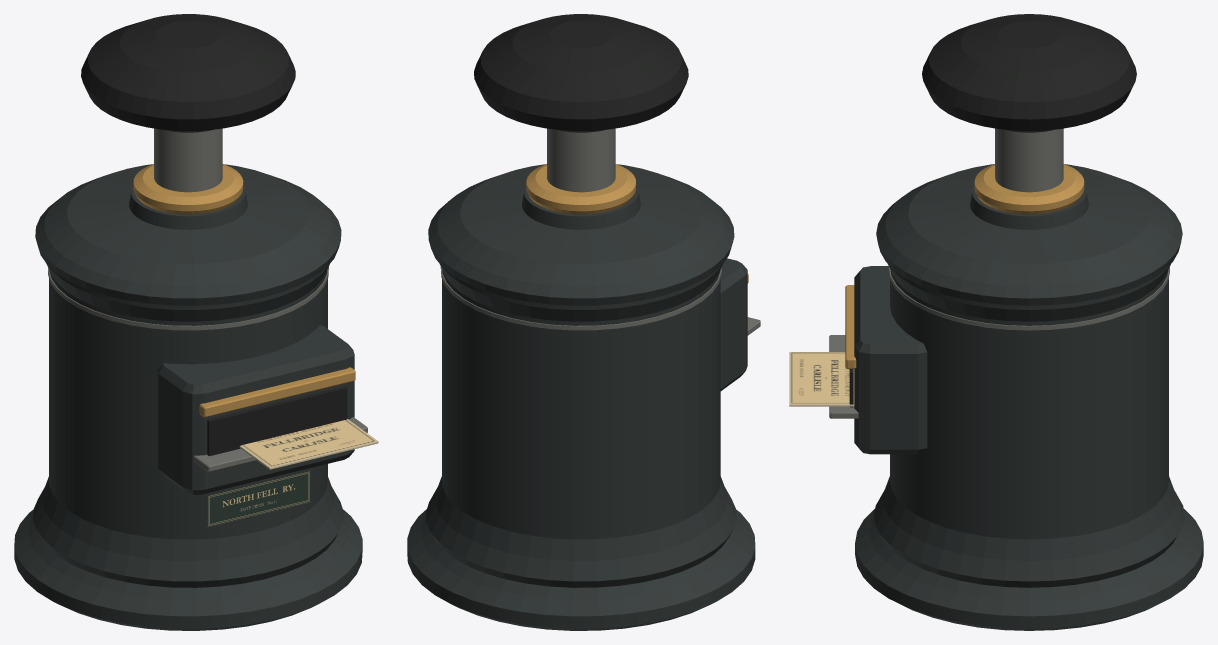
The model's file is TicketDatingPress.fbx.
3 renders of one model, left to right at view 1: azimuth 30°, elevation 25°; view 2: azimuth 150°, elevation 25°; view 3: azimuth 270°, elevation 25°, orthographic.
Parts seen in each view (by area): view 1: TicketDatingPress joinery; view 2: TicketDatingPress joinery; view 3: TicketDatingPress joinery.
Boxes of the visible parts, x1,y1,x2,y2 form: TicketDatingPress joinery: (14, 14, 378, 630); TicketDatingPress joinery: (407, 14, 760, 630); TicketDatingPress joinery: (789, 14, 1203, 630).
Bounding box in the file's own units: 0.1524 × 0.254 × 0.1812.
6 materials, 1 textured.
